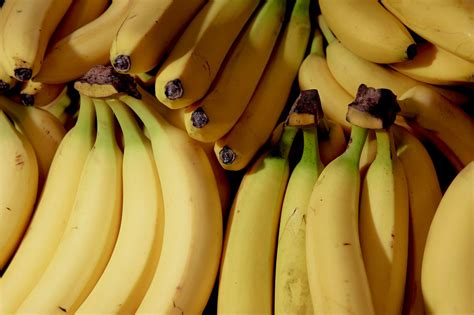banana: (27, 120, 124, 314), (1, 114, 95, 314), (215, 1, 317, 172), (136, 121, 225, 313), (78, 122, 162, 314), (181, 1, 287, 148), (304, 148, 378, 313), (150, 1, 258, 113)
